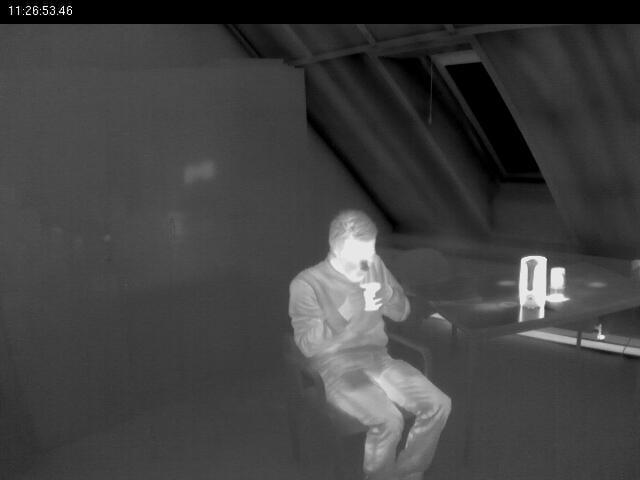person: (287, 212, 459, 477)
